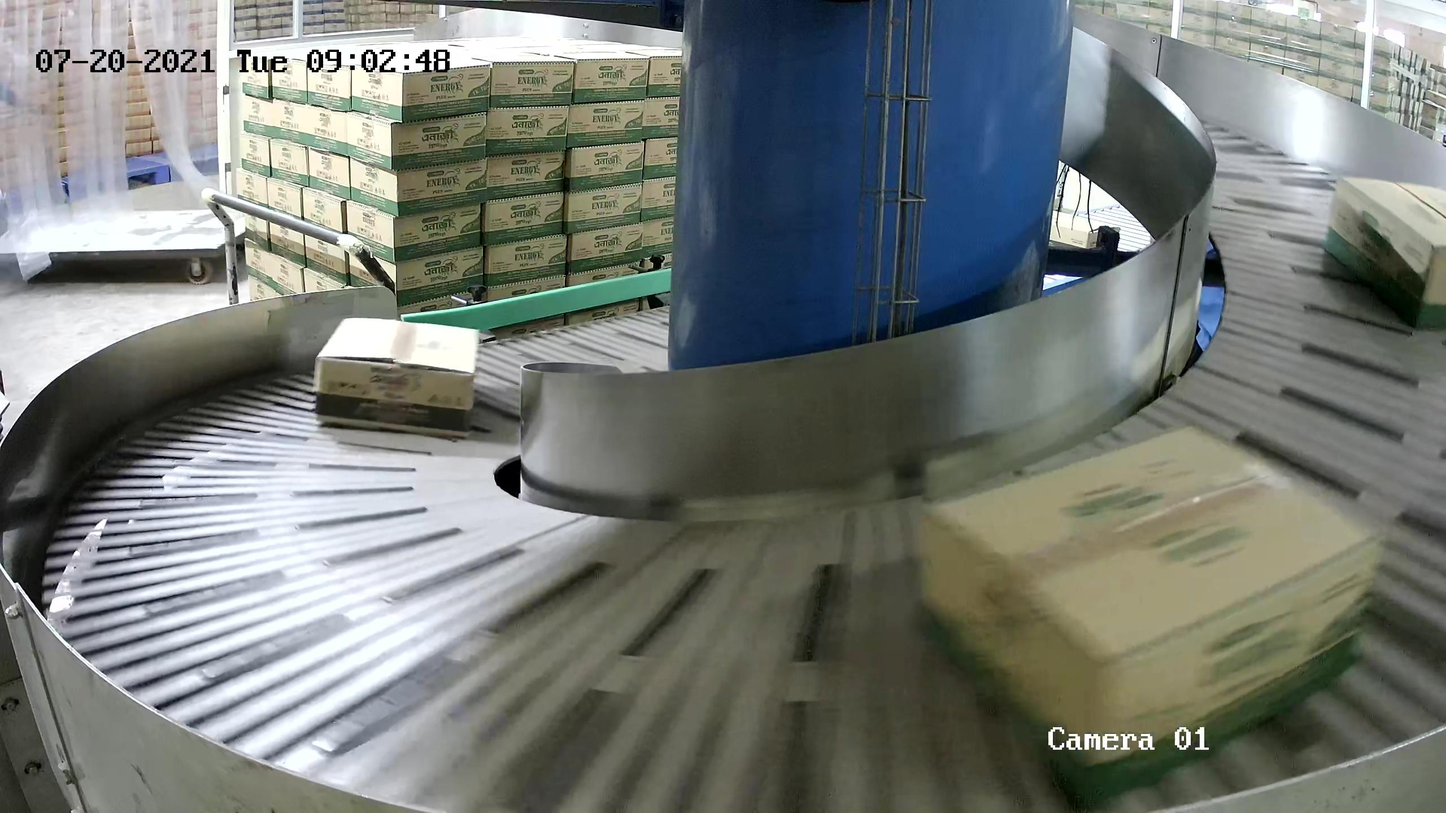Box: (910, 418, 1377, 813), (1318, 178, 1446, 338), (313, 317, 479, 438)
